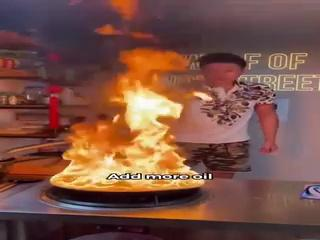Fire: (44, 66, 205, 194)
